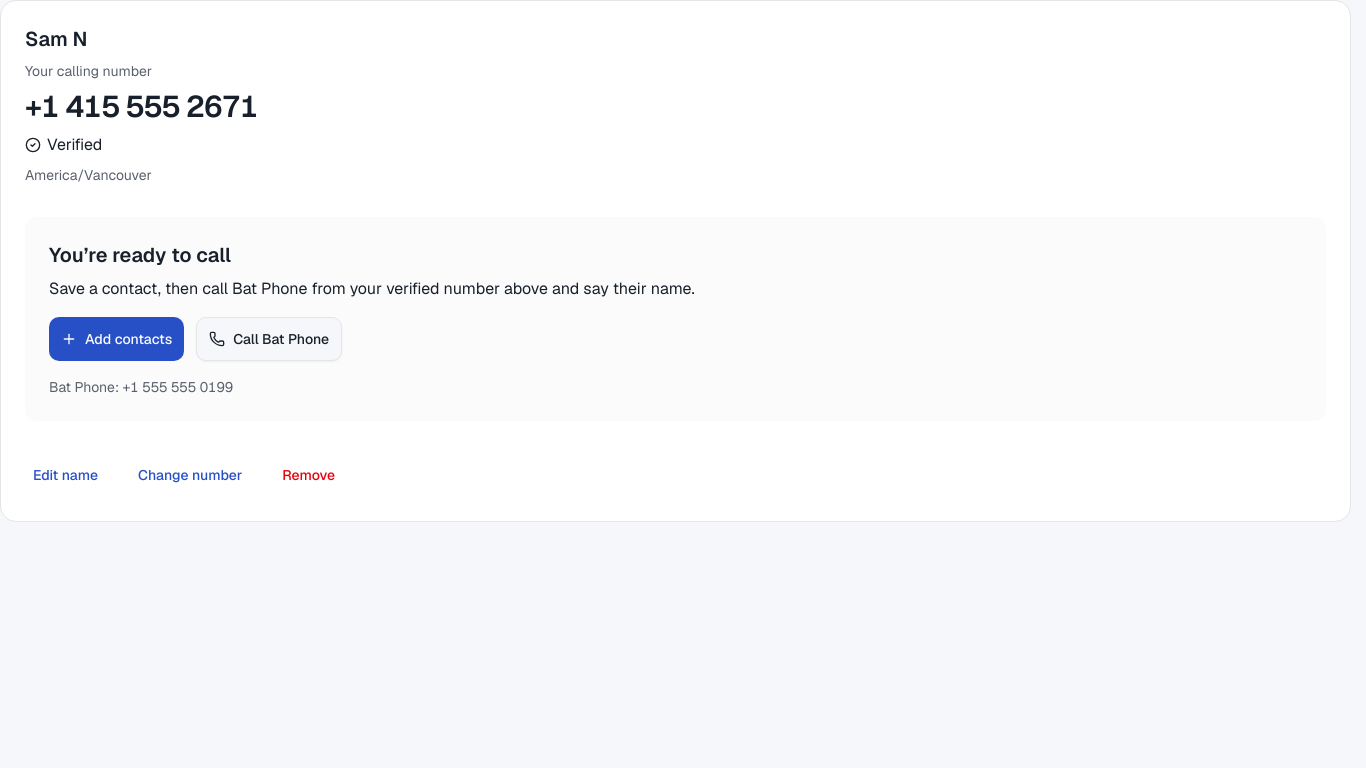
Test: SetupForm › keeps saved names when editing a profile with different Google suggestions
Click the button "Edit name" at point(66, 475), box [25,453,106,497]
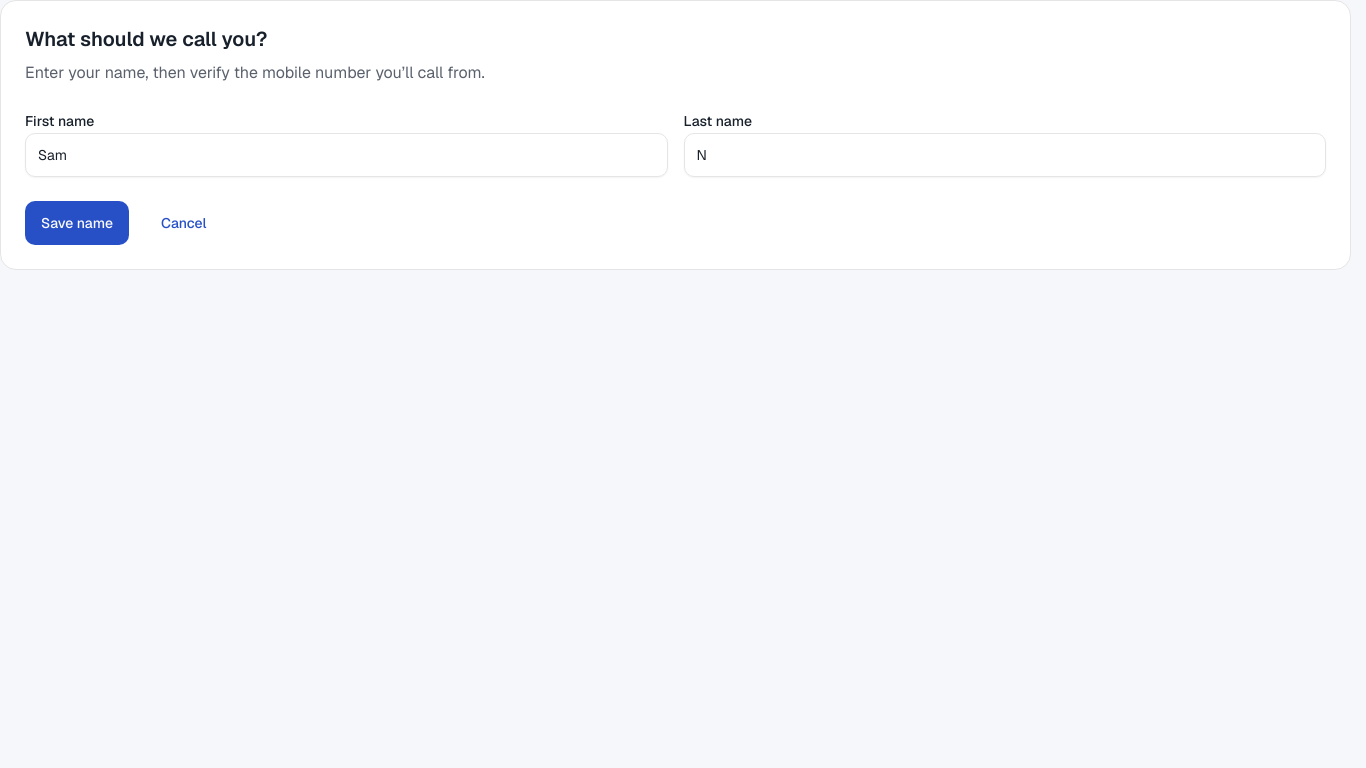
Now the field labelled "First name" holds "Sam", box [25,133,668,177]
Now the field labelled "Last name" holds "N", box [684,133,1326,177]
